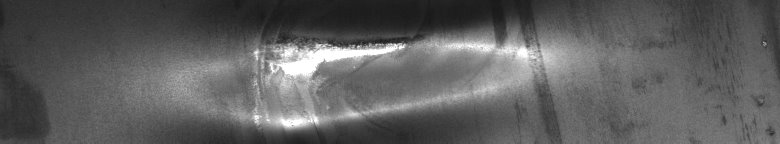ke: (252, 31, 539, 136)
